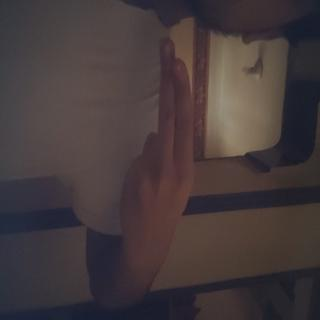AYN: (24, 162, 213, 282)
